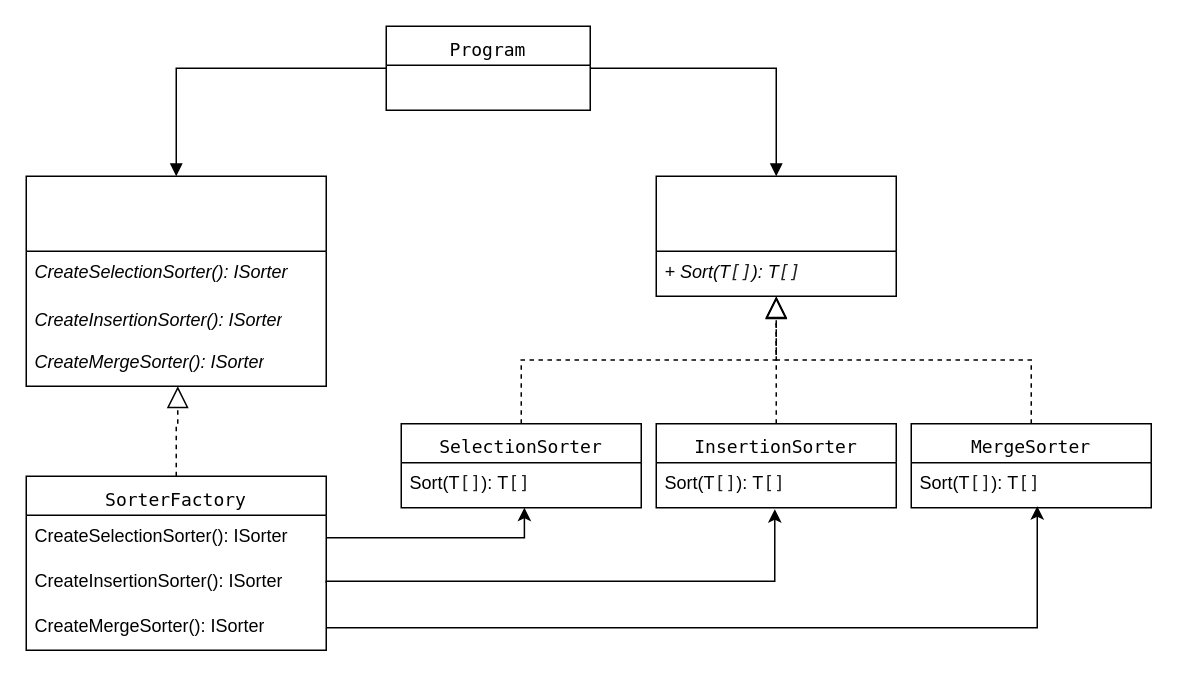
The diagram is 1178 pixels wide and 681 high, and some of its shapes have lost their labels. The box of each missing label's shape, as (x1, y1, x2, y2) in pixels:
«interface» ISorter: (655, 175, 896, 296)
«interface» ISorterFactory: (25, 175, 326, 386)
